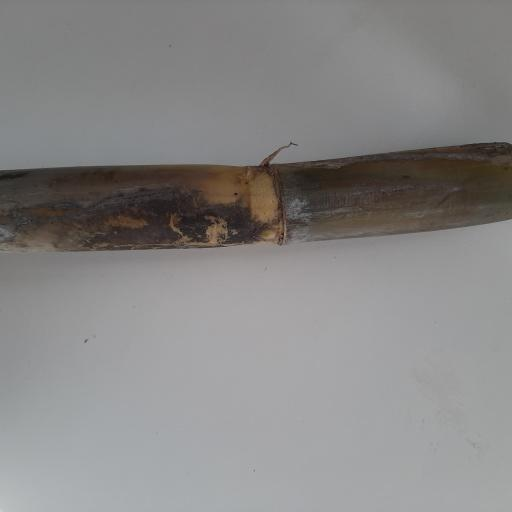Bud: (253, 225, 280, 242)
